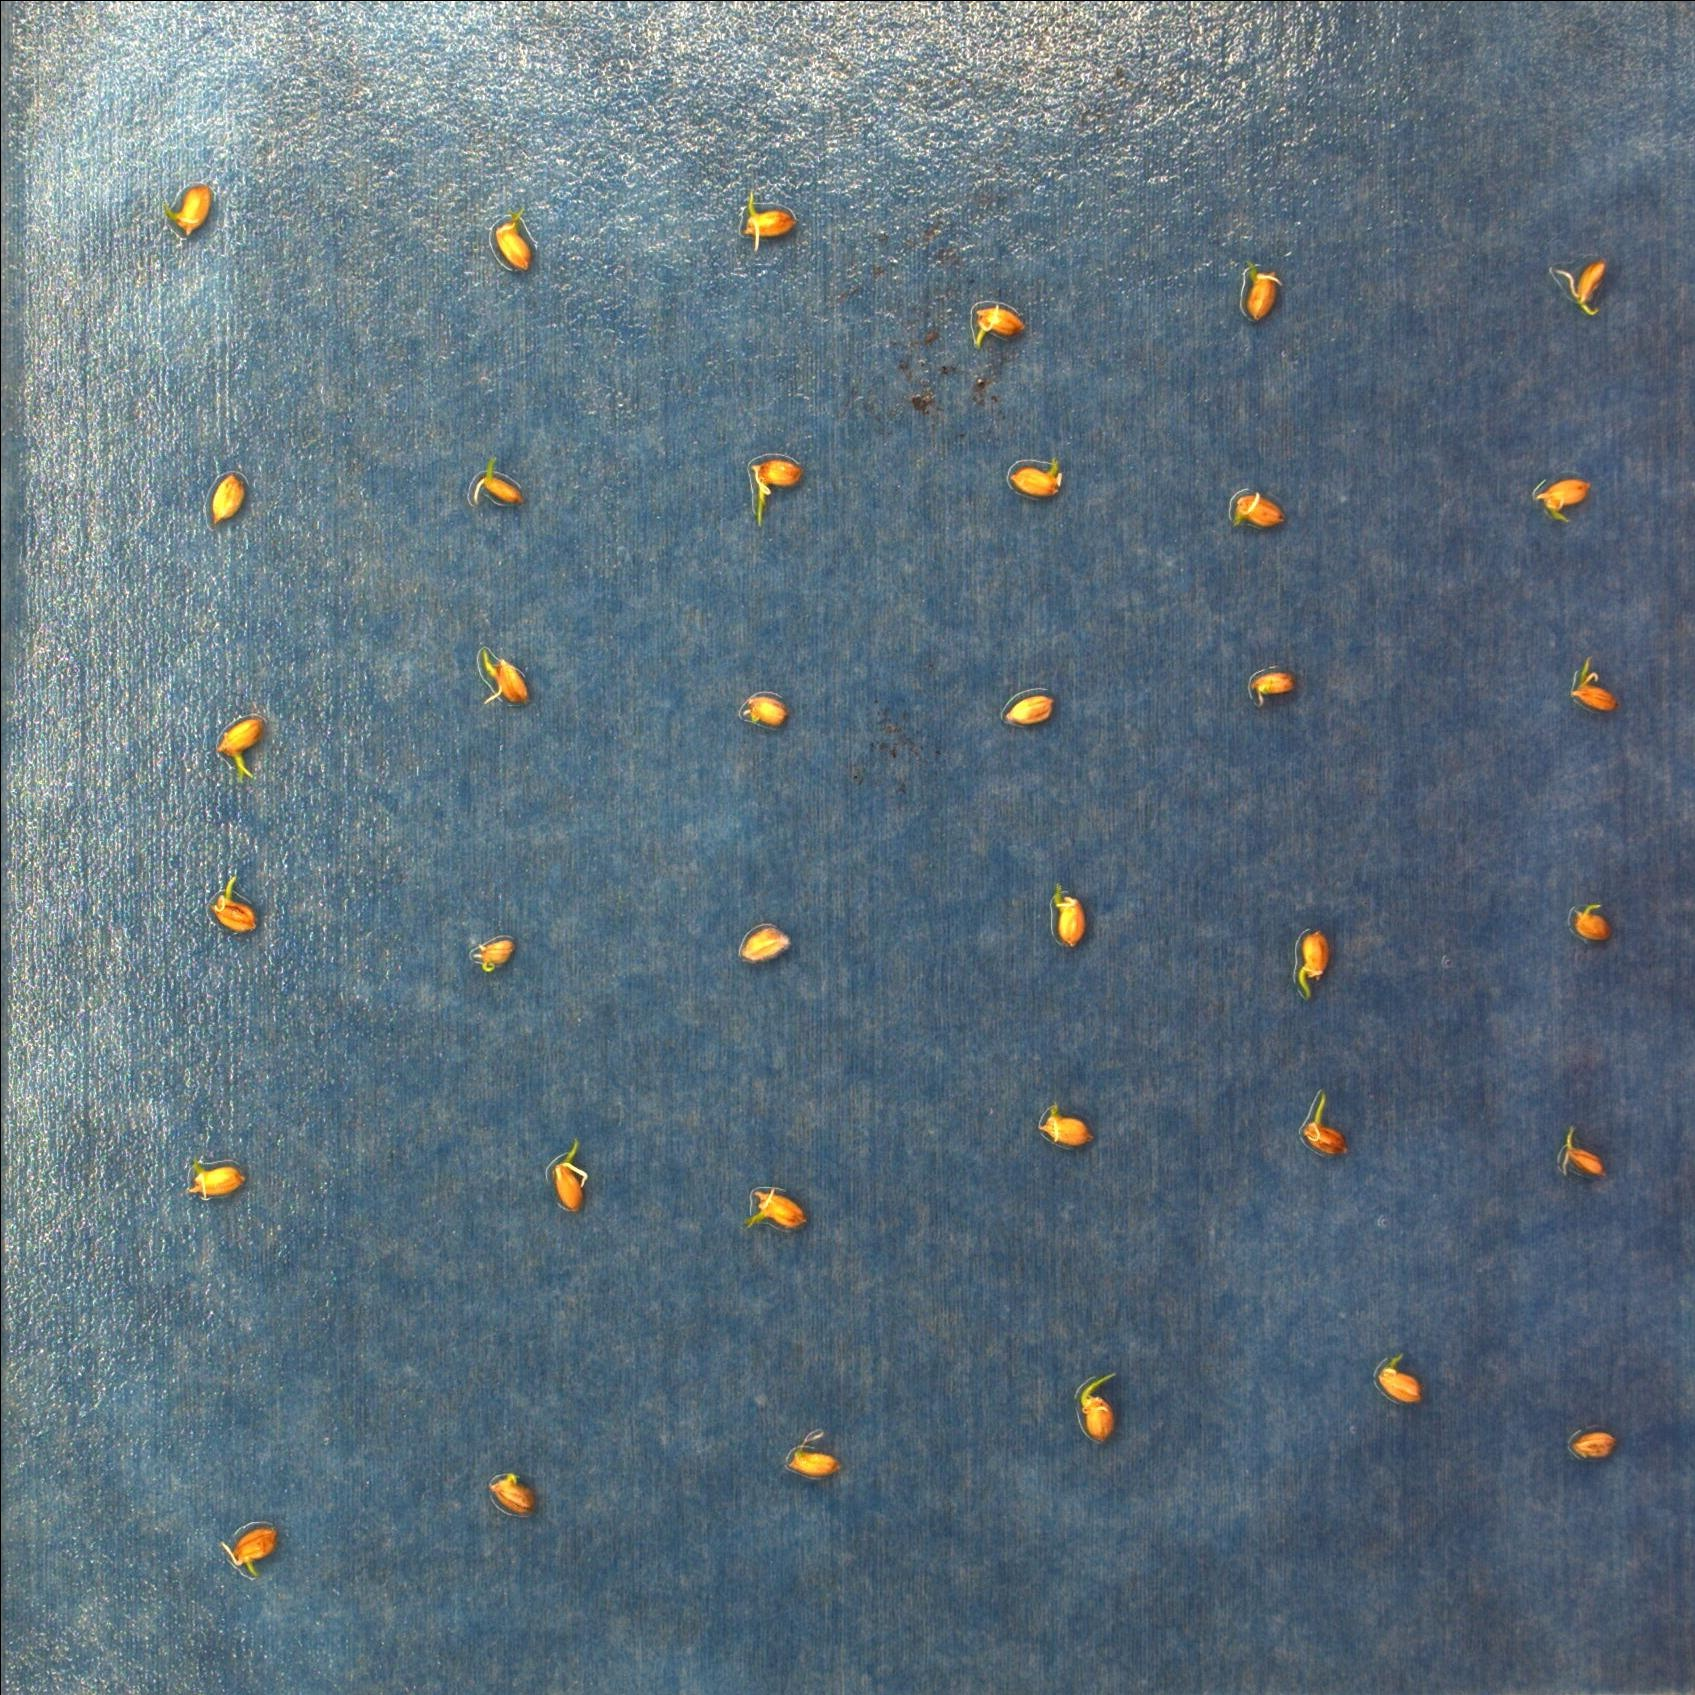not sprout: (1562, 653, 1627, 719), (742, 1180, 810, 1239), (1034, 1097, 1104, 1155), (750, 459, 807, 528), (739, 189, 799, 251), (1549, 261, 1605, 317), (220, 1523, 276, 1579), (785, 1426, 846, 1478), (549, 1135, 588, 1214), (1374, 1350, 1430, 1405), (1554, 1125, 1607, 1183), (183, 1155, 250, 1200), (1530, 477, 1593, 523), (483, 647, 531, 705), (487, 1467, 539, 1518), (473, 455, 526, 504), (168, 182, 214, 237), (495, 200, 532, 270), (1240, 261, 1284, 320), (972, 304, 1028, 348), (1052, 882, 1090, 947), (1245, 661, 1295, 709), (1228, 494, 1288, 528), (1010, 459, 1062, 497), (211, 472, 245, 525), (739, 927, 792, 961), (470, 933, 515, 972), (1003, 692, 1054, 725), (744, 695, 790, 730), (1572, 903, 1614, 941), (1571, 1430, 1616, 1461)
sprout: (217, 712, 265, 782), (1302, 1087, 1346, 1163), (1077, 1371, 1119, 1442), (1295, 930, 1333, 1001), (211, 874, 256, 934)
